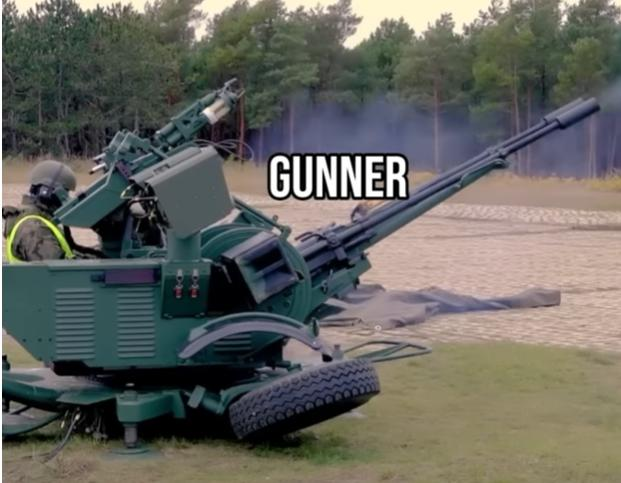MIL_SPG: (2, 79, 599, 449)
